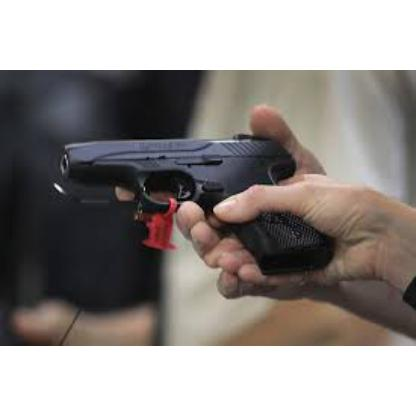gun: (54, 132, 330, 274)
